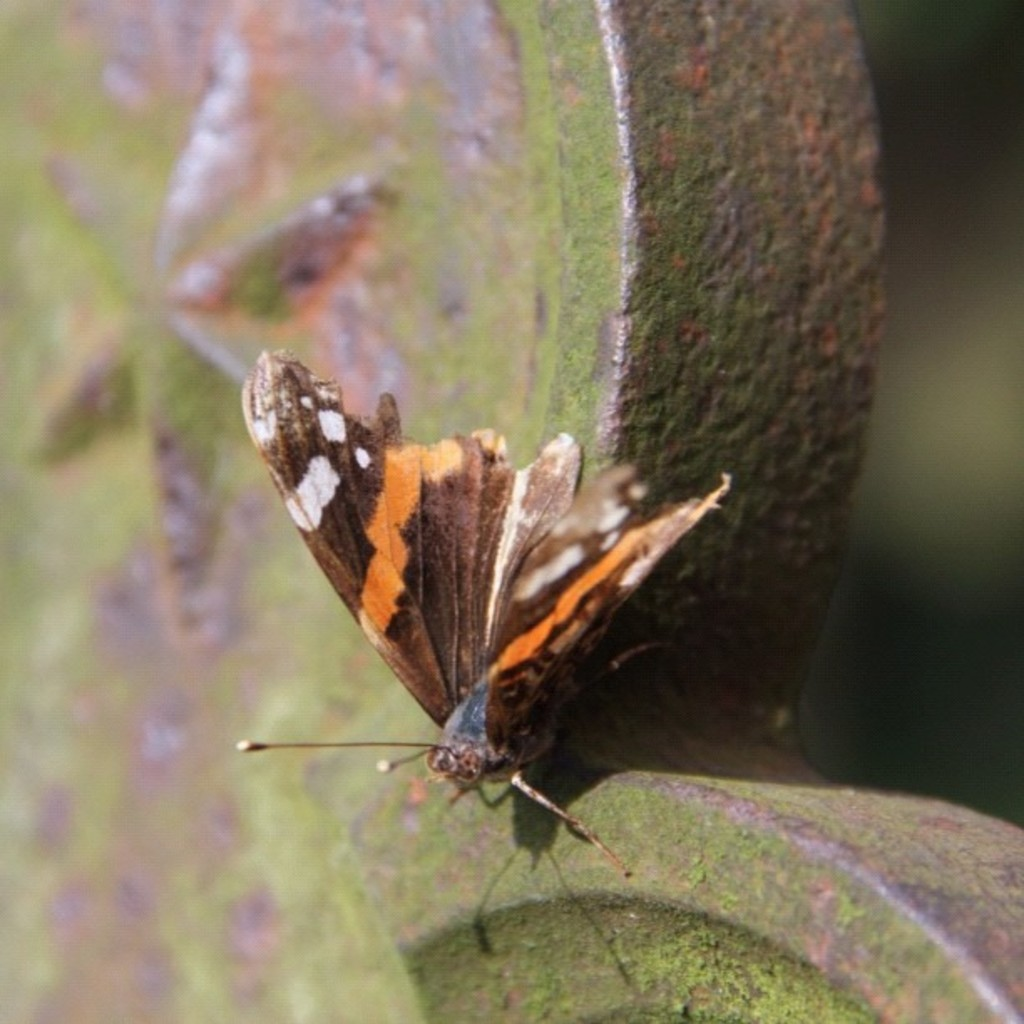Butterfly: (218, 341, 733, 866)
